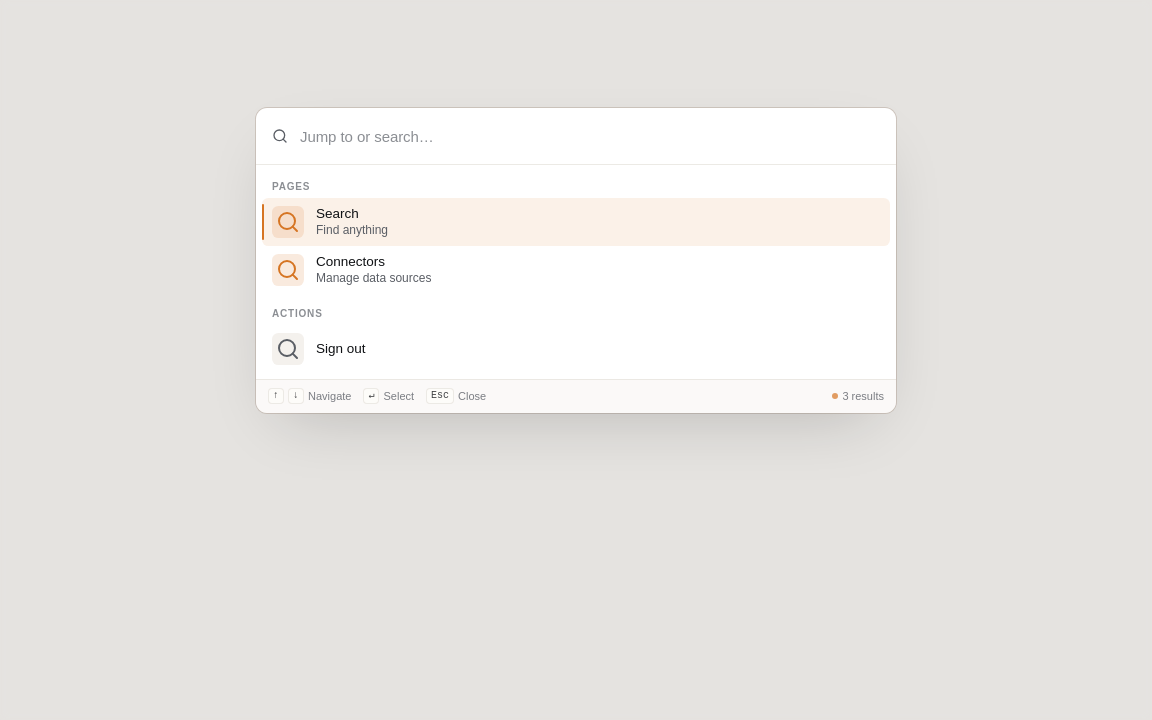
Test: CommandPalette › shows an empty state when nothing matches
Type "zzzzz-no-match" into the field with placeholder "Jump to or search…" at (576, 136), box [256,108,896,164]
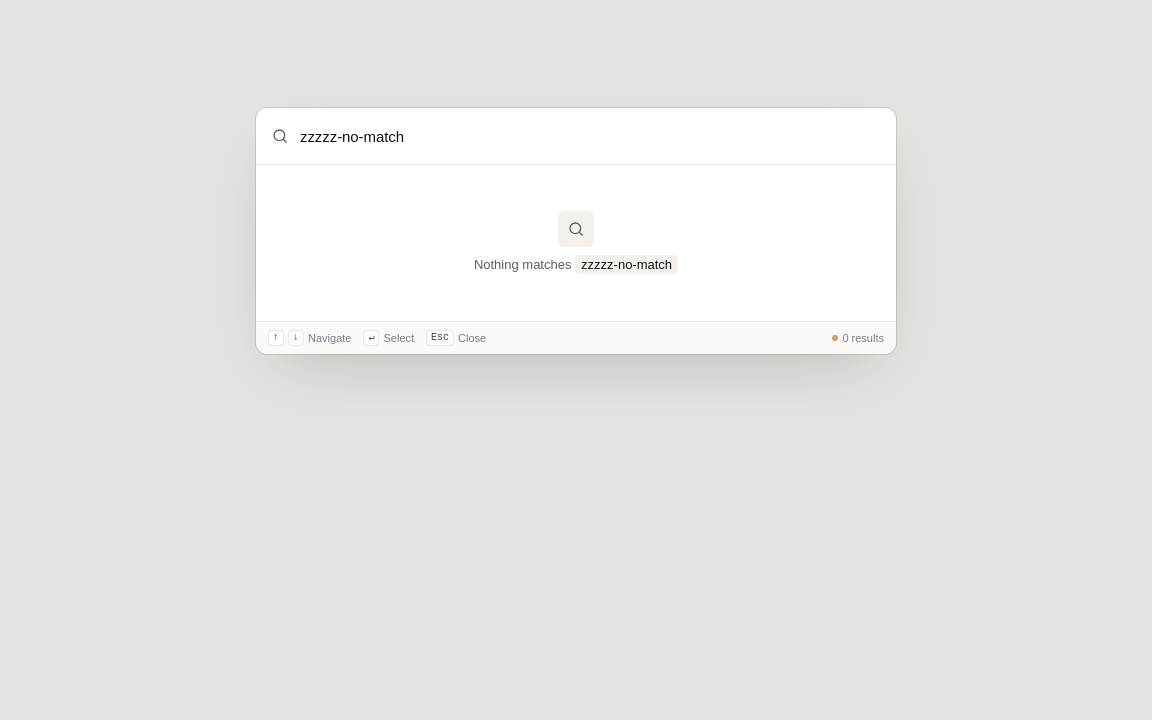
Result: the text "Nothing matches zzzzz-no-match" is shown at [474,255,678,274]
